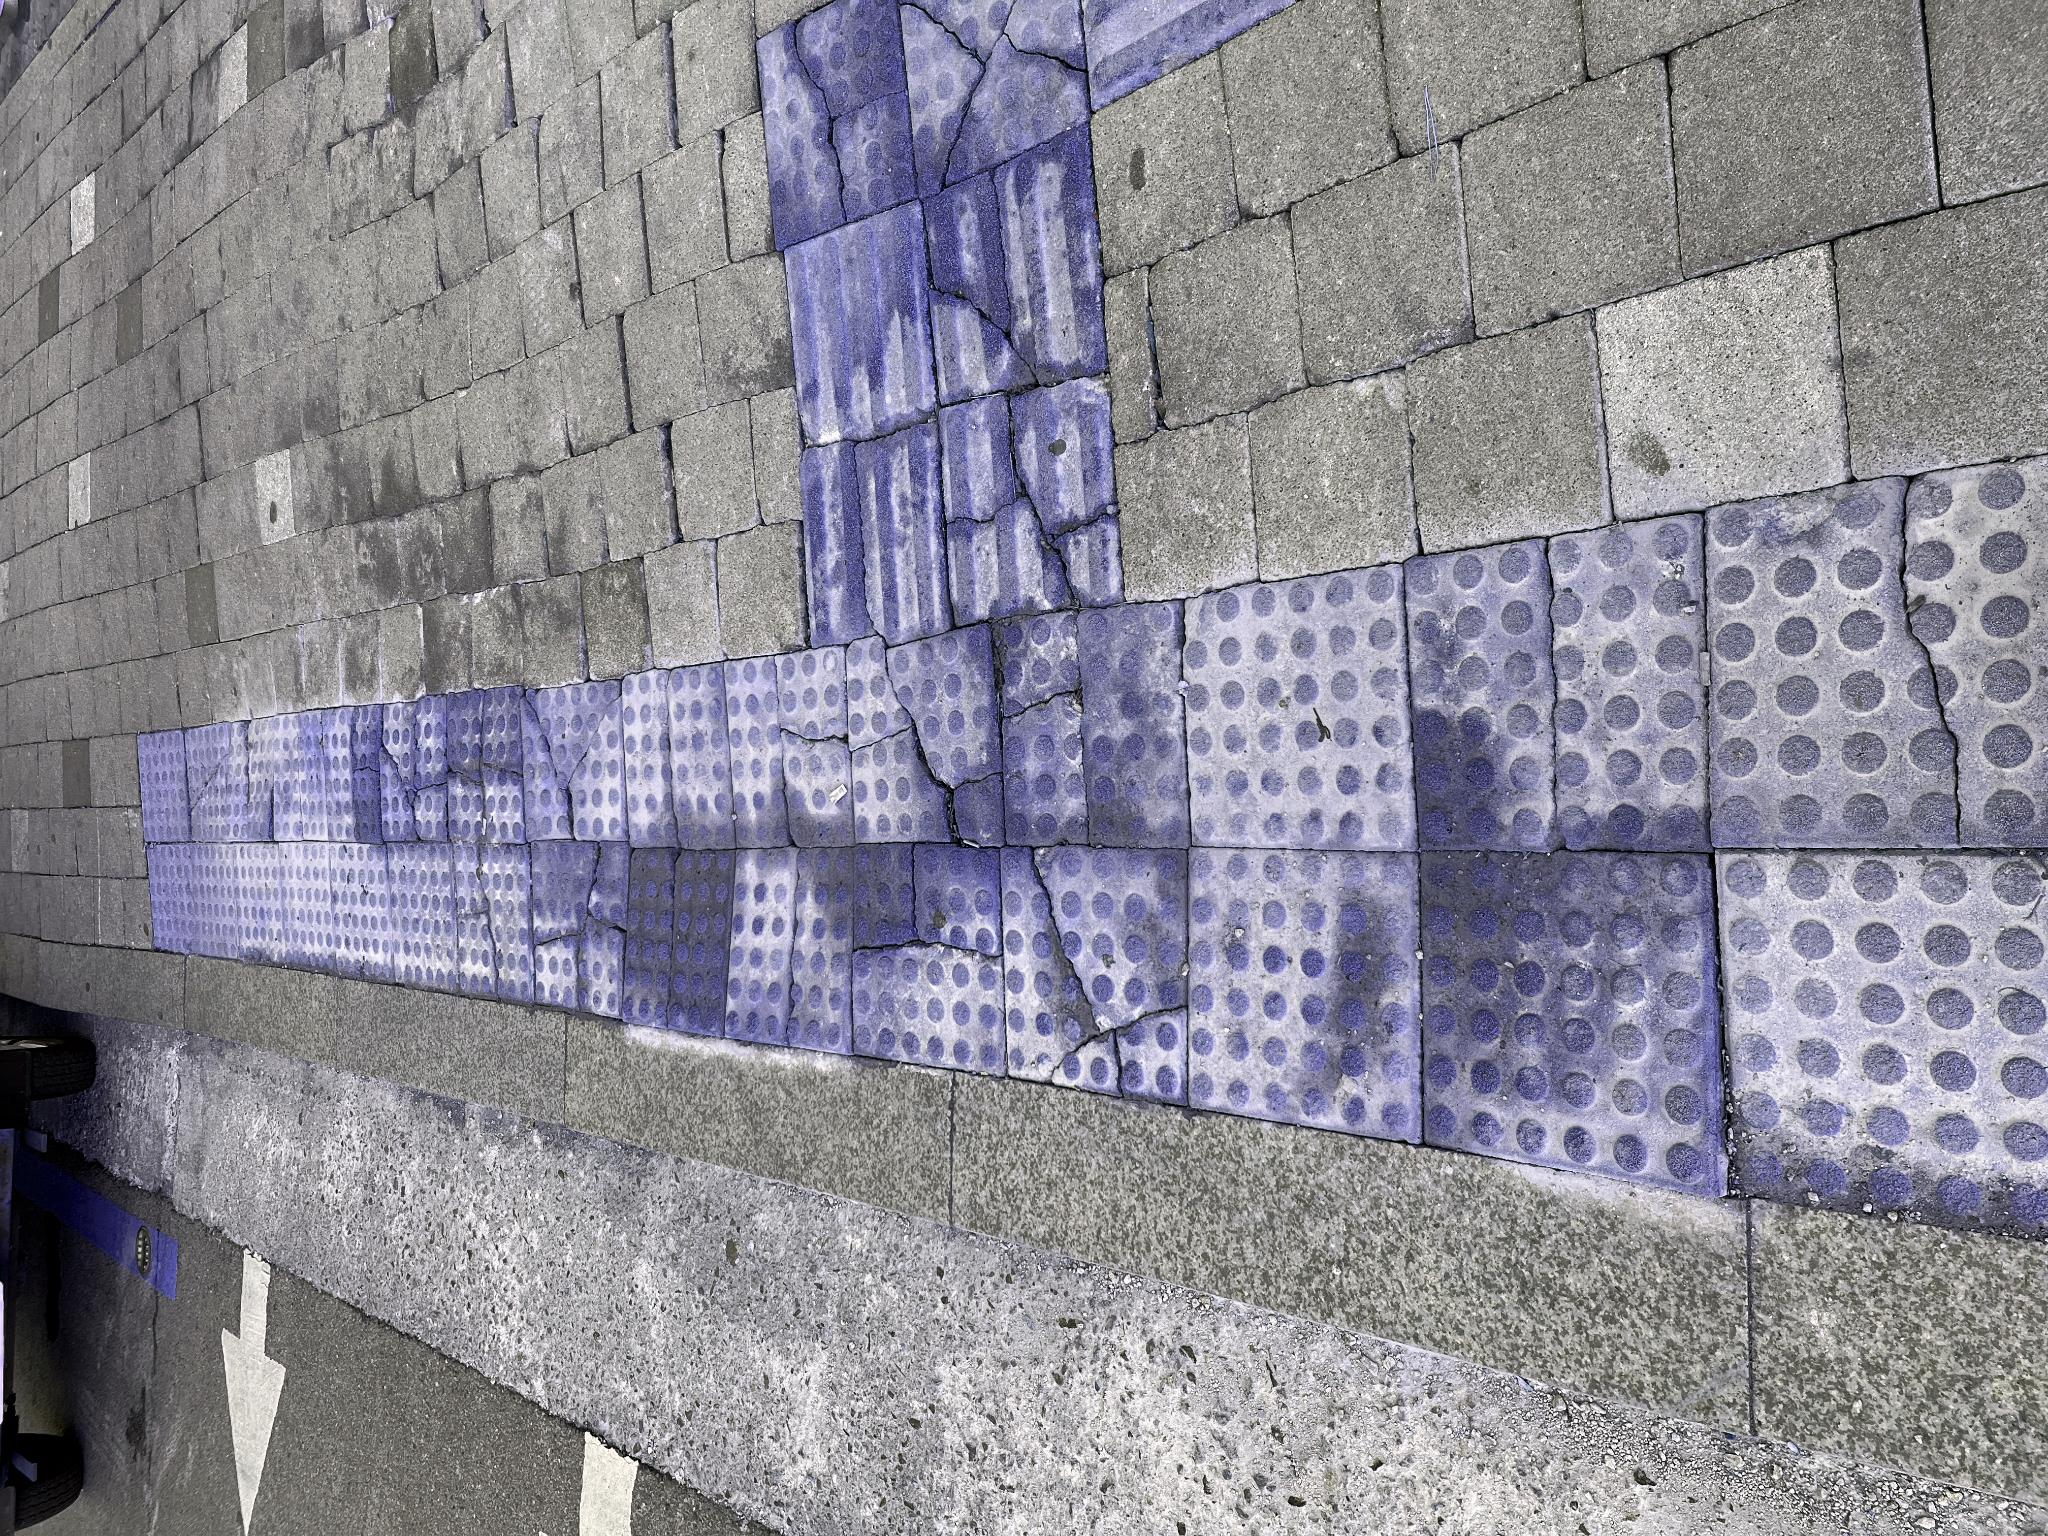Stop block broken: (432, 1002, 687, 1184), (692, 999, 934, 1187), (687, 1410, 993, 1536), (692, 845, 913, 999), (461, 855, 689, 1002), (689, 724, 889, 854), (518, 534, 693, 626), (698, 523, 855, 624), (695, 447, 848, 524), (534, 453, 690, 528)
Stop block normal: (397, 1191, 687, 1417), (687, 1186, 969, 1415), (547, 387, 693, 457)
Straight block broken: (1132, 925, 1409, 1104), (914, 939, 1159, 1121)
Straight block normal: (1090, 784, 1334, 929)
